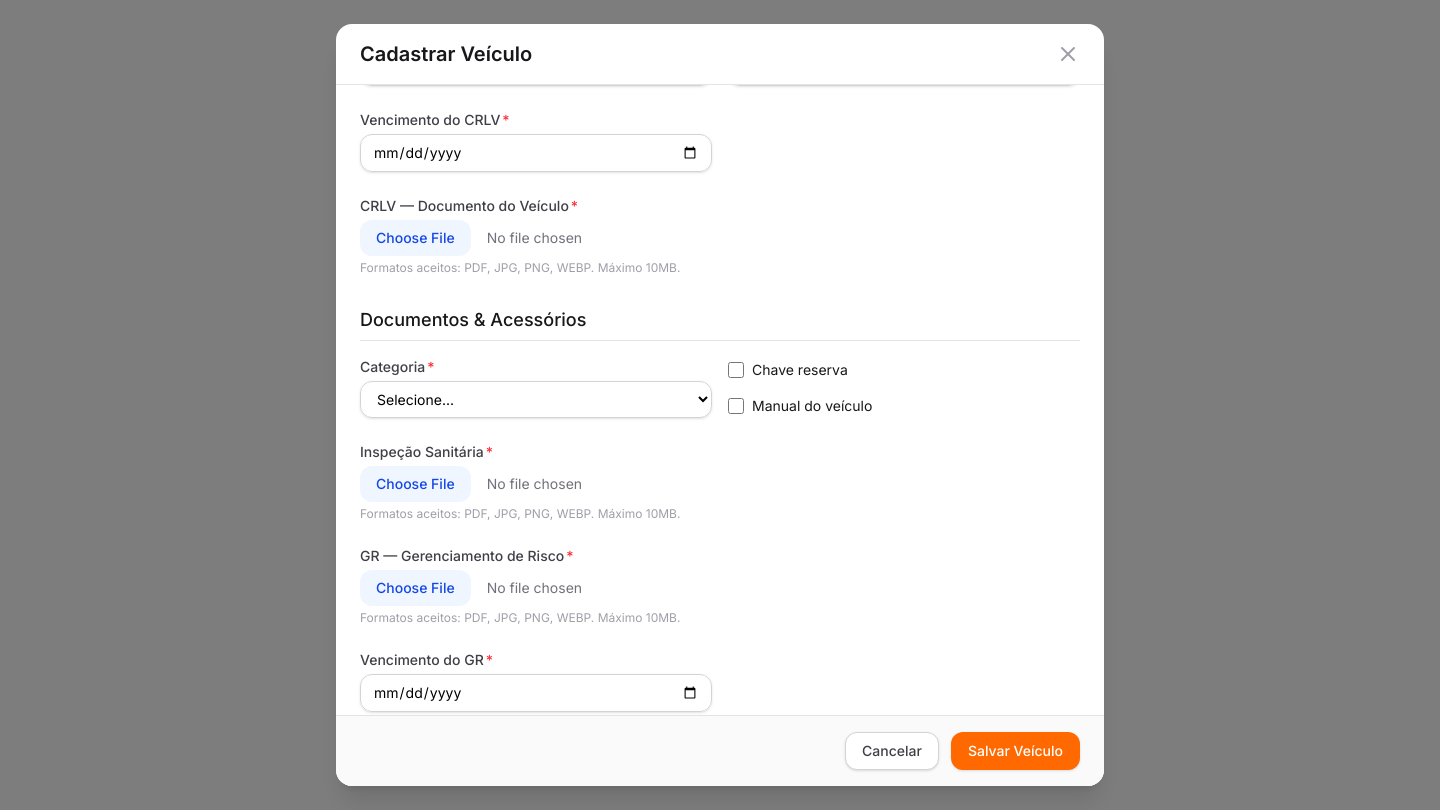
Test case: VehicleForm › shows cavalo axle help and deprecation note
The image size is (1440, 810).
(page scrolled)
Select "Pesado" in the dropdown named "category" at (536, 400), box [360, 381, 712, 418]
(page scrolled)
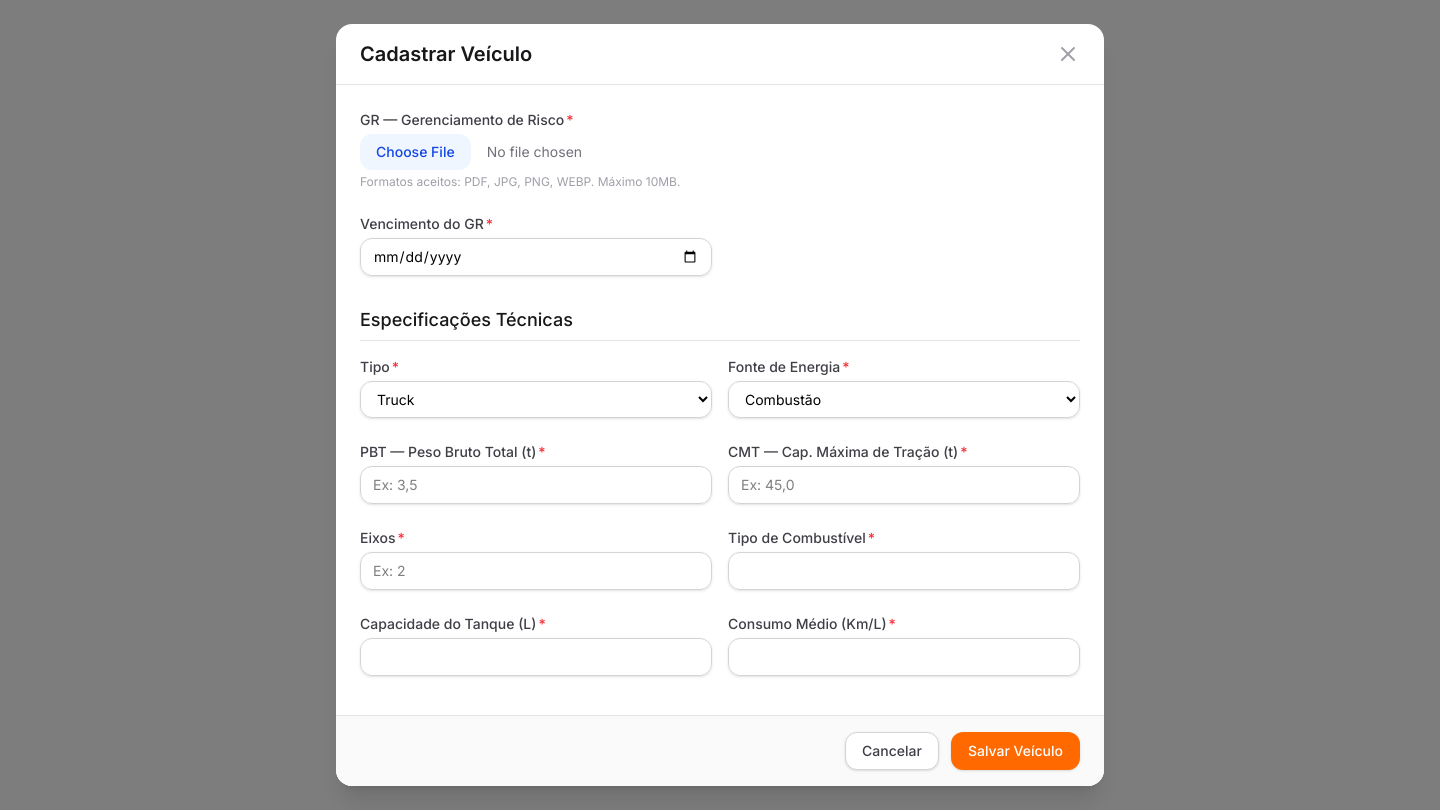
Select "Cavalo" in the 1st dropdown named "type" at (536, 400), box [360, 381, 712, 418]
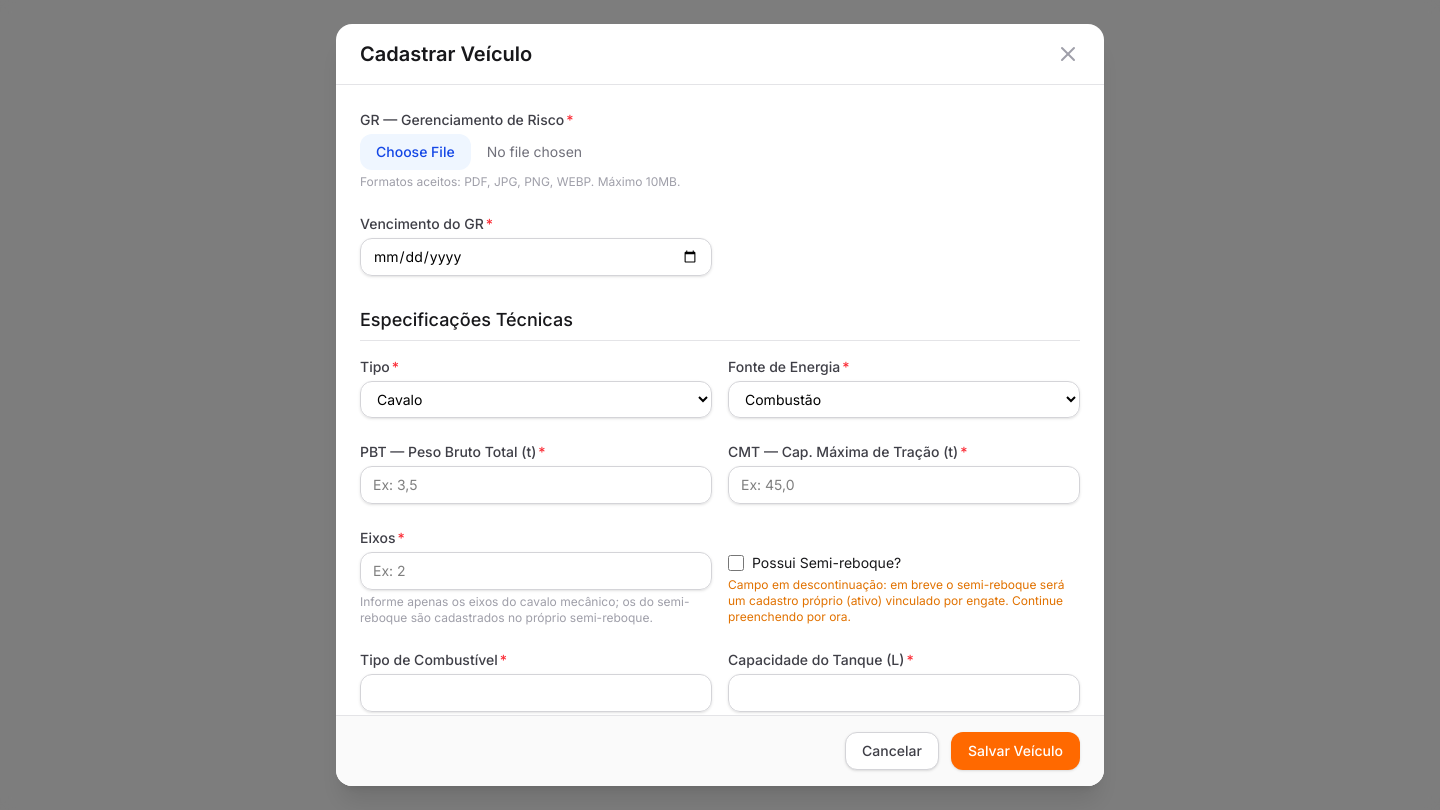
Now the text "Informe apenas os eixos do cavalo mecânico; os do semi-reboque são cadastrados no próprio semi-reboque." is shown, box [360, 594, 690, 625]
Now the text "Campo em descontinuação: em breve o semi-reboque será um cadastro próprio (ativo) vinculado por engate. Continue preenchendo por ora." is shown, box [728, 577, 1064, 624]
